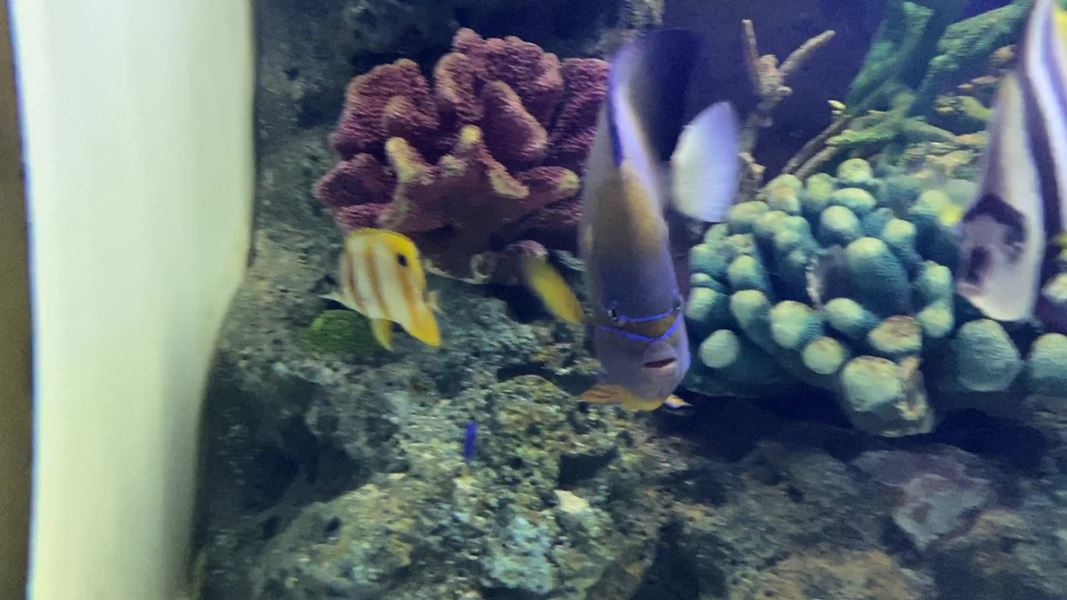Blue ring angelfish: (566, 13, 771, 442)
